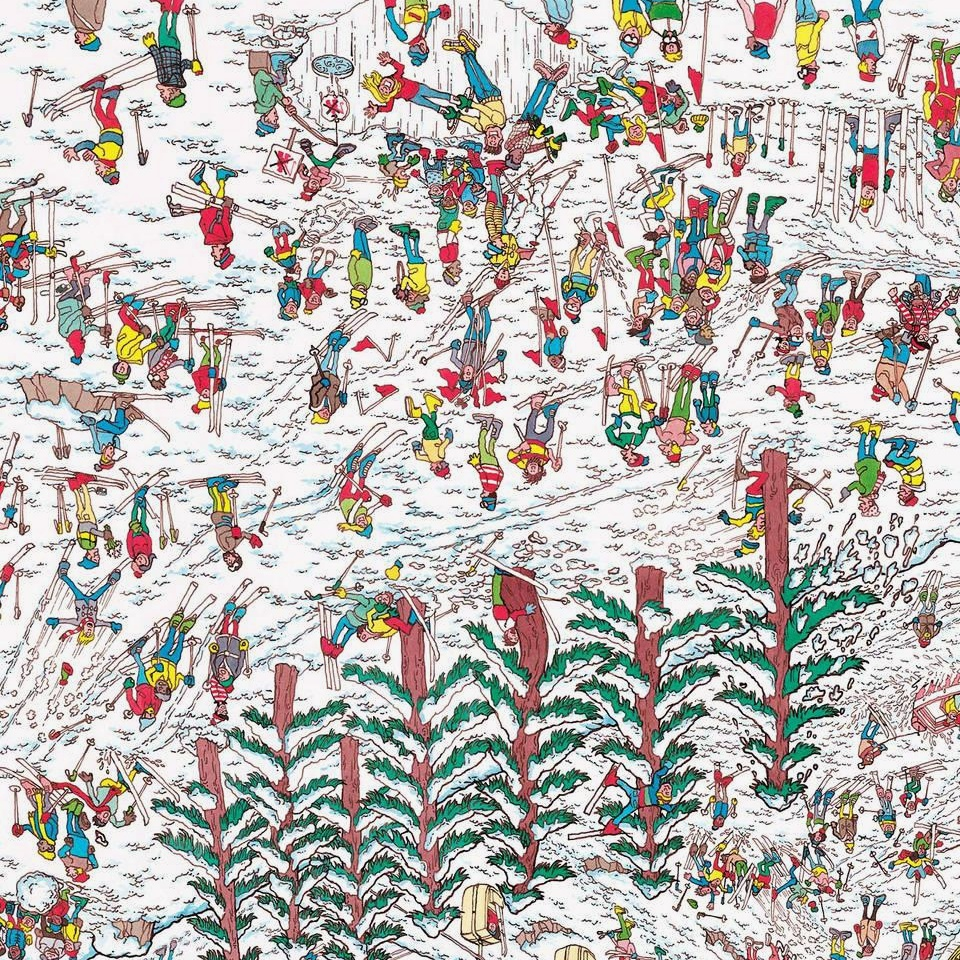waldo: (888, 269, 958, 354)
